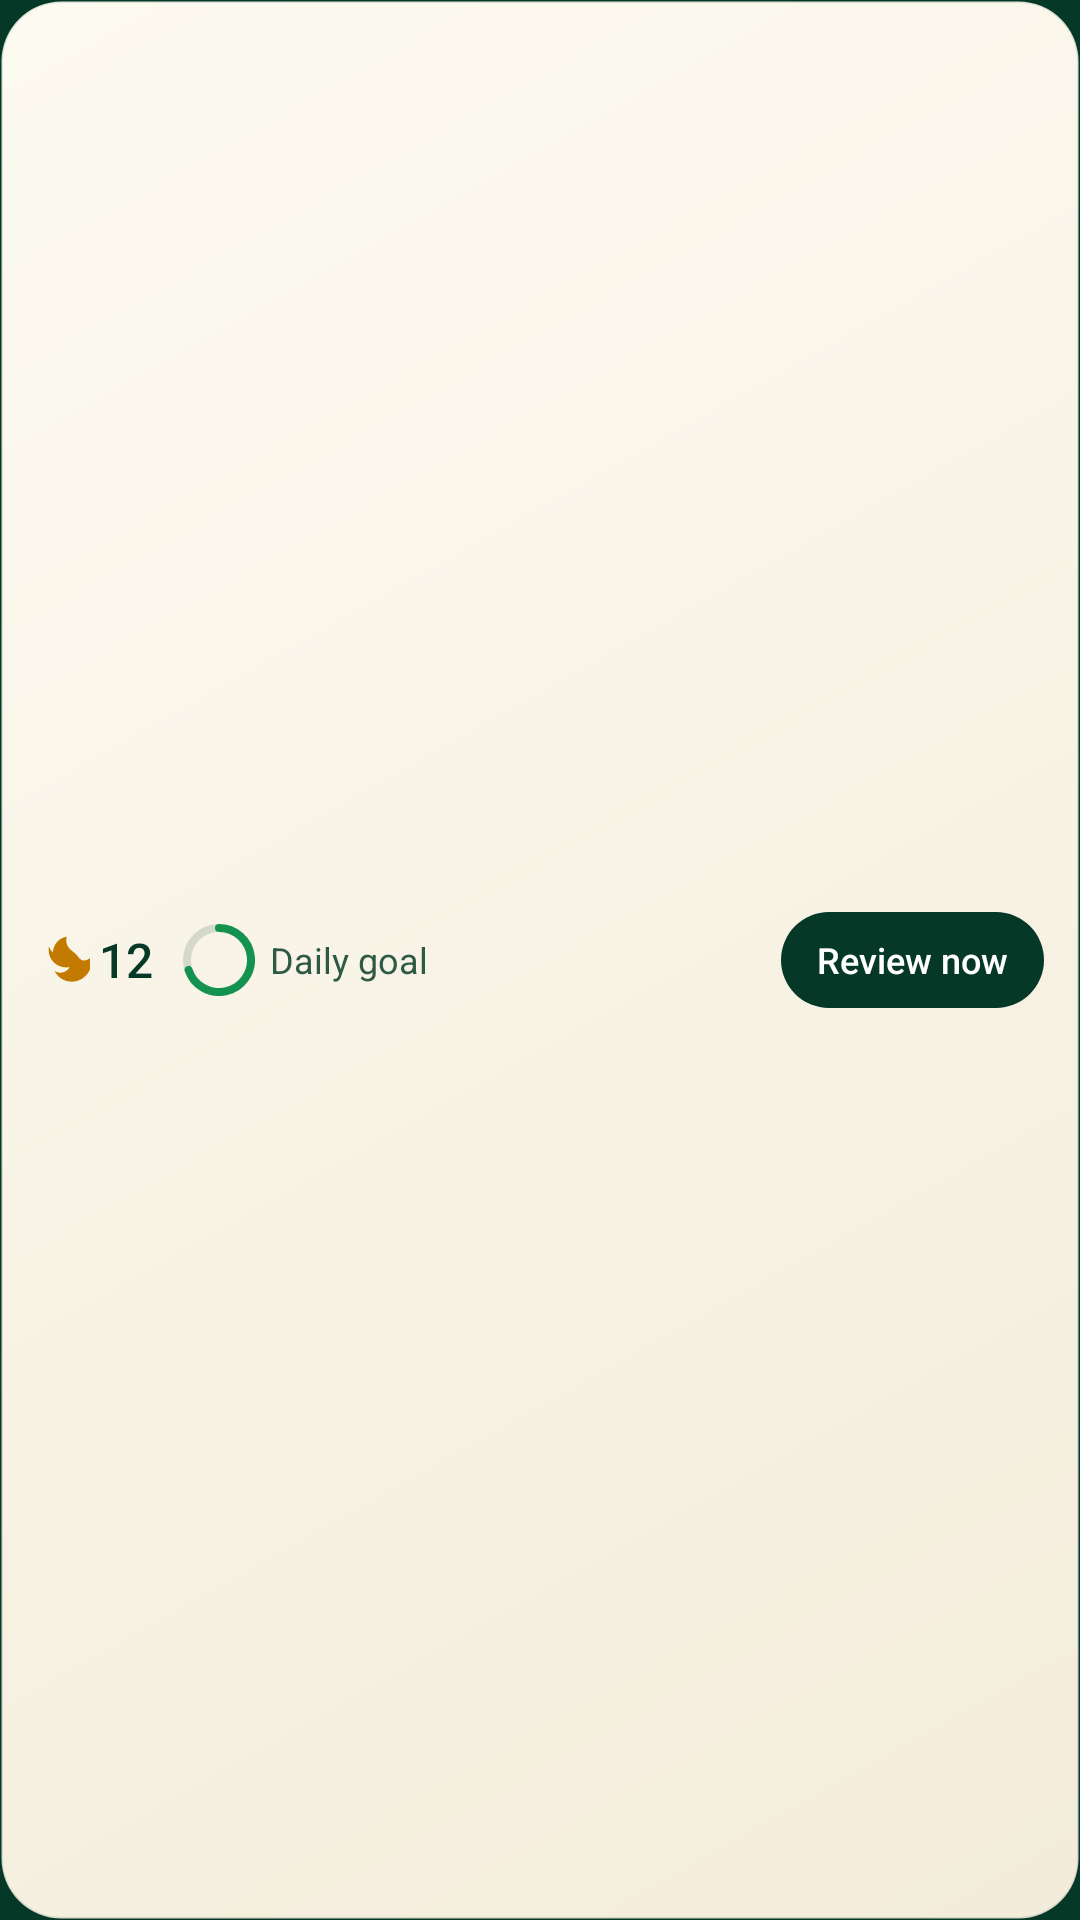

Screen size 1080px×1920px. Icon name, then its center in pixels as (x,y):
widget flame: (69,959)
widget ring: (219,960)
